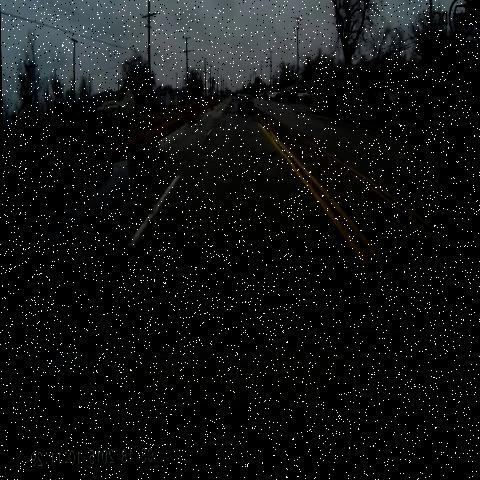pothole: (246, 140, 284, 194), (218, 109, 239, 124)
